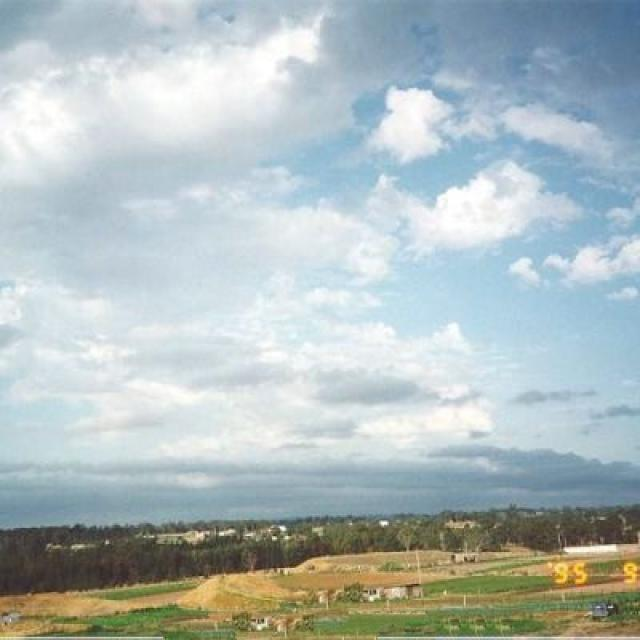St: (1, 7, 640, 464)
